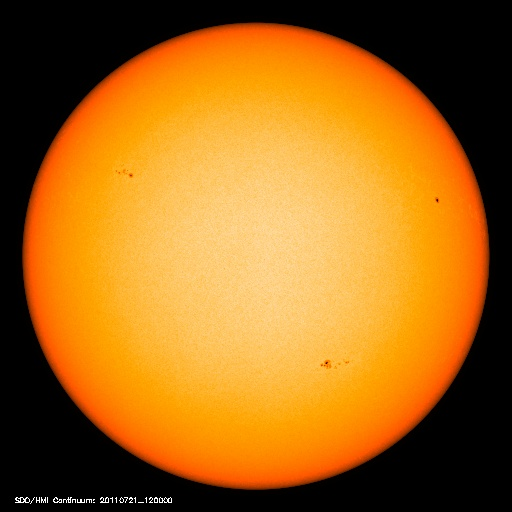sunspot: (302, 346, 367, 379), (100, 154, 150, 188), (420, 186, 452, 213)
